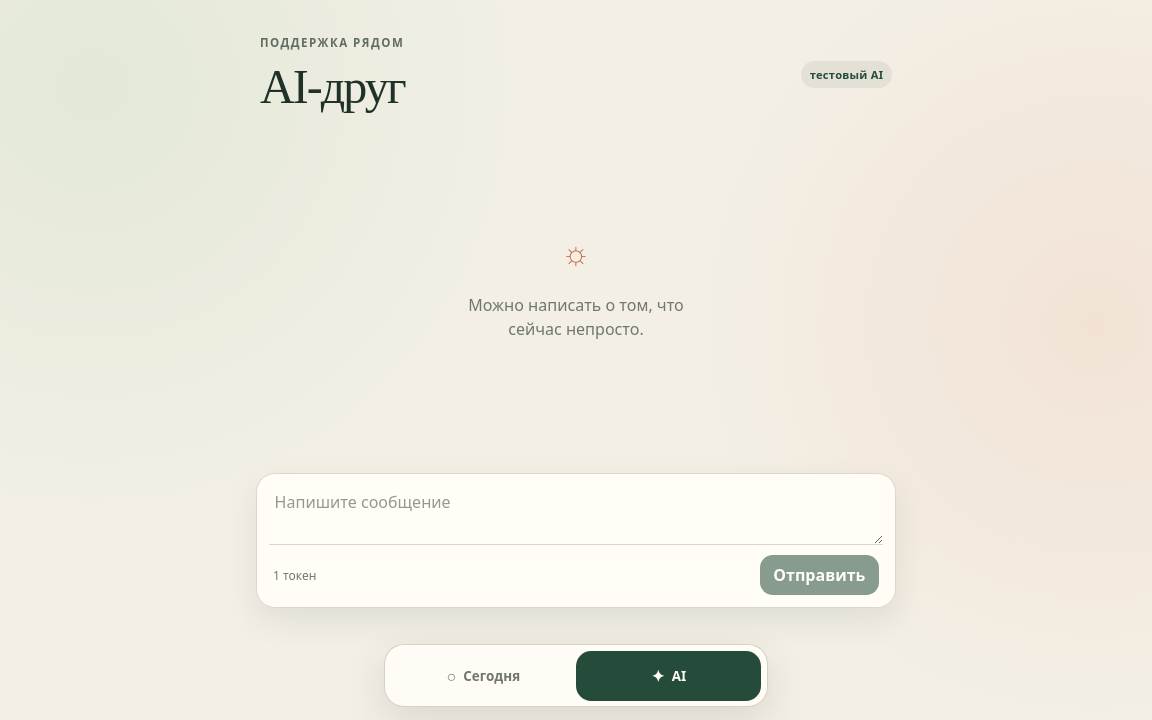
AI chat screen › keeps the composer disabled while the initial request is in flight
Expected: the element named "Переписка с AI" is shown, [468,235,684,340]
Type "Не стирай этот текст" into the text box labelled "сообщение".
click(576, 515); type("Не стирай этот текст")  # box [269,486,883,544]
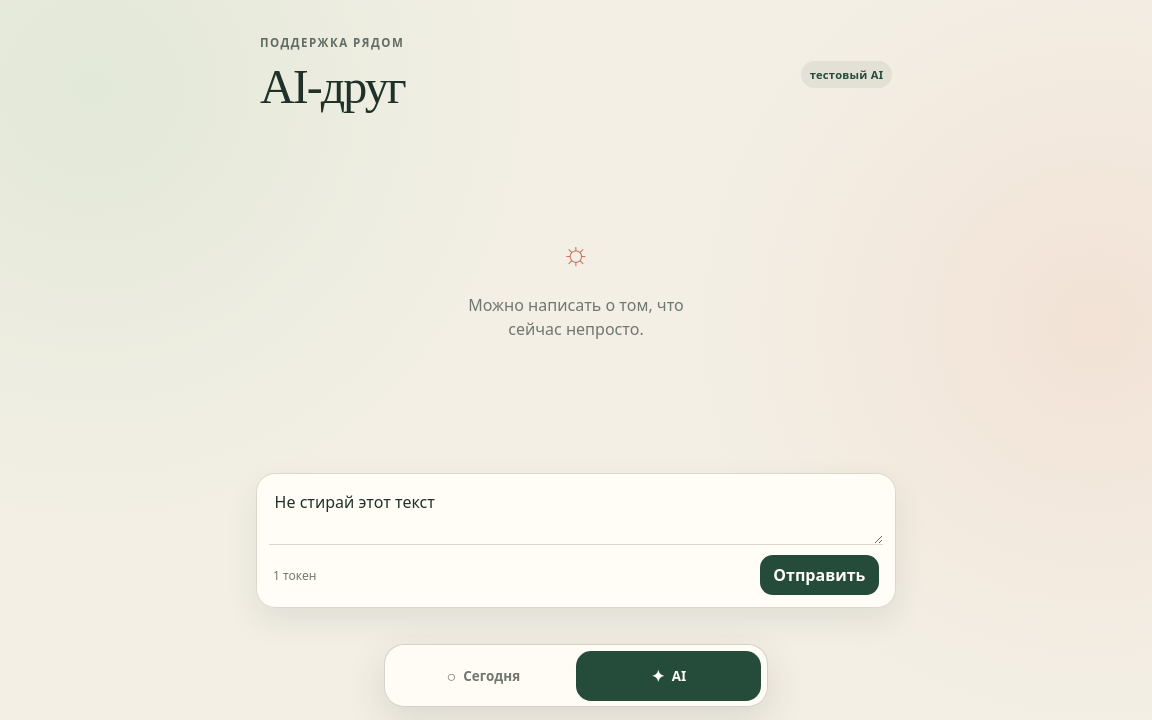
Click the button "Отправить".
click(819, 575)  # box [760,555,879,595]
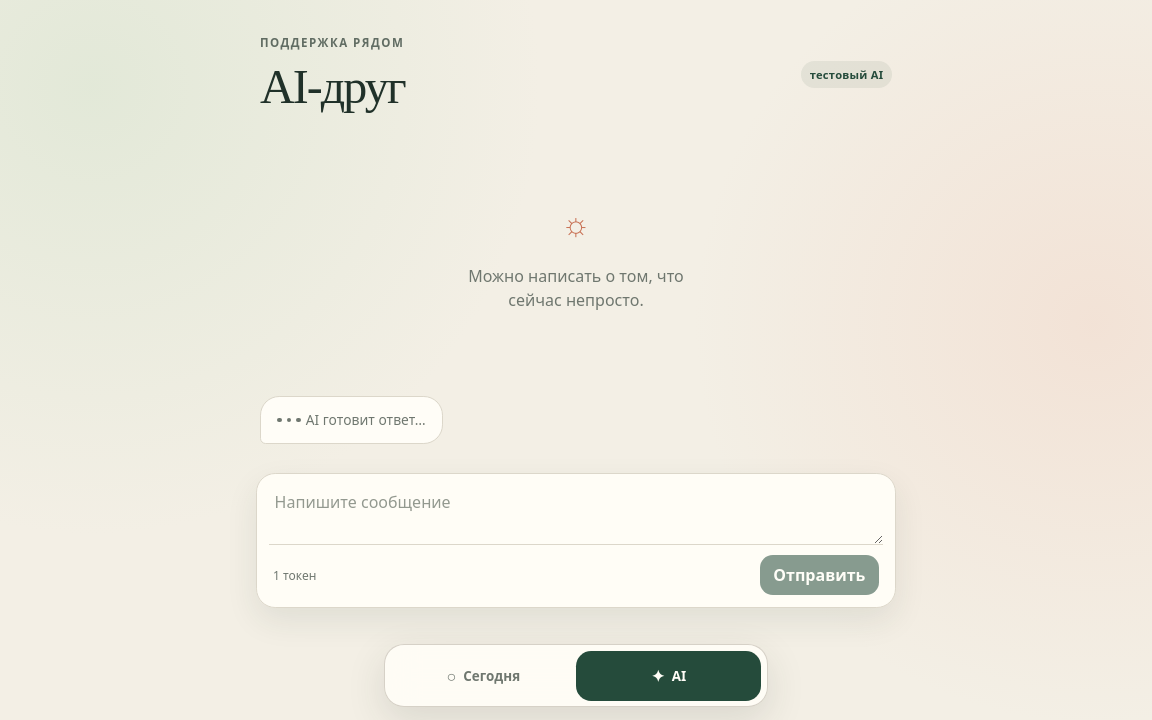
Expected: the text box labelled "сообщение" is disabled, [269,486,883,544]
